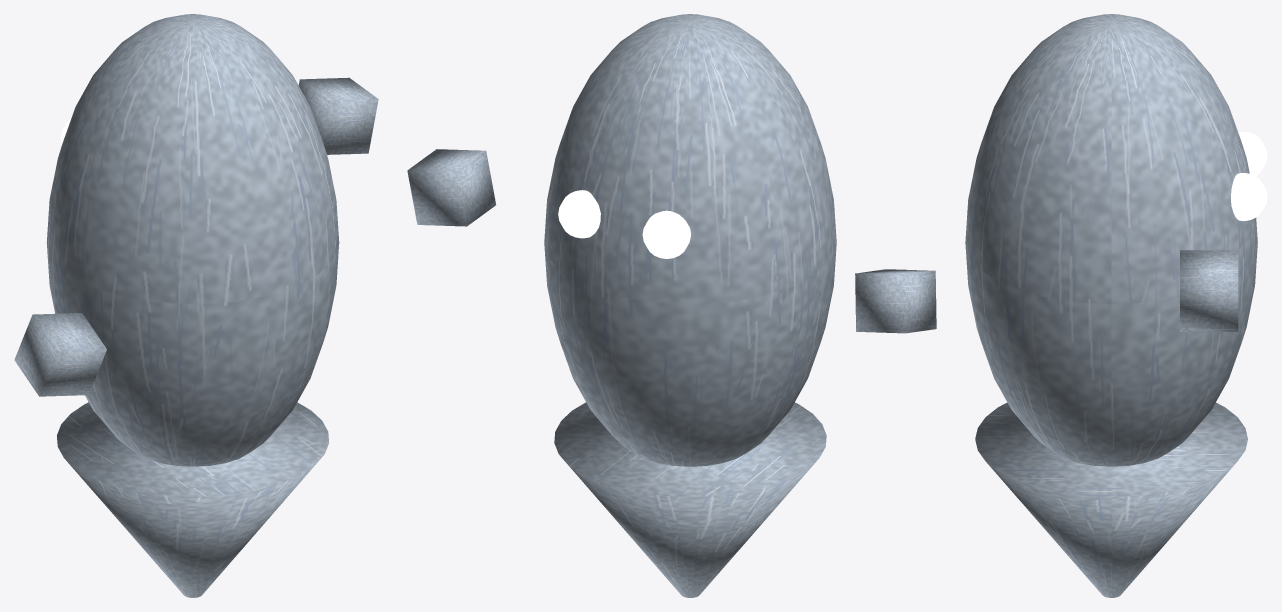
Rendered from poltergeist.glb.
3 renders of one model, left to right at view 1: azimuth 30°, elevation 25°; view 2: azimuth 150°, elevation 25°; view 3: azimuth 270°, elevation 25°, orthographic.
Visible parts, largest first — view 1: Body, Tail, FloatObj.001, FloatObj; view 2: Body, Tail, FloatObj, FloatObj.001, Eye, Eye.001; view 3: Body, Tail, FloatObj, Eye.001, Eye.
Part boxes in pixels (x1,y1,x2,y2): Body: (46,14,339,466); Tail: (57,402,328,597); FloatObj.001: (14,313,106,396); FloatObj: (298,77,378,154); Body: (544,14,836,466); Tail: (554,402,826,597); FloatObj: (407,149,495,226); FloatObj.001: (855,269,936,333); Eye: (642,210,690,258); Eye.001: (558,190,600,238); Body: (965,14,1257,466); Tail: (975,402,1247,597); FloatObj: (1180,250,1238,331); Eye.001: (1231,173,1267,221); Eye: (1238,131,1267,175).
Bounding box in the file's own units: 0.7679 × 1 × 0.4788.
2 materials, 1 textured.
